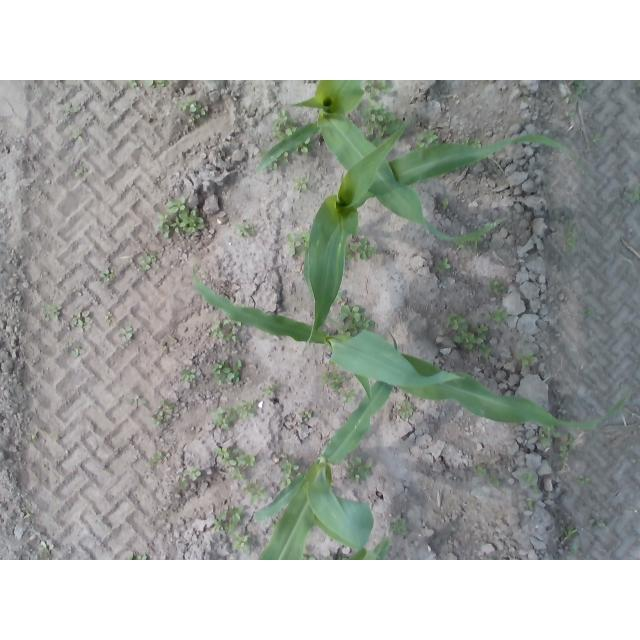Maize: (192, 268, 633, 434), (303, 126, 574, 352), (261, 81, 506, 243), (254, 329, 399, 560), (333, 537, 393, 560)
Weeds: (217, 448, 254, 477), (455, 323, 488, 353), (209, 405, 240, 432), (211, 320, 242, 345), (214, 363, 244, 386), (216, 505, 241, 532), (179, 209, 203, 232), (154, 212, 176, 237), (369, 80, 395, 101), (274, 453, 303, 471), (182, 102, 206, 123), (352, 456, 372, 480), (346, 312, 370, 332), (430, 254, 452, 274), (260, 380, 280, 401), (325, 370, 345, 391), (396, 397, 414, 419), (274, 110, 288, 138), (233, 535, 252, 555), (357, 239, 376, 259), (69, 311, 91, 328), (286, 233, 302, 256), (241, 398, 259, 418), (447, 313, 466, 331), (620, 186, 640, 203), (368, 107, 392, 121), (248, 484, 267, 501), (339, 304, 359, 320), (418, 130, 438, 146), (563, 525, 578, 545), (560, 433, 575, 453), (487, 307, 507, 322), (165, 197, 185, 212), (186, 366, 203, 382), (143, 252, 158, 269), (45, 305, 63, 319), (339, 390, 358, 403), (236, 223, 252, 238), (491, 280, 506, 295), (130, 396, 147, 408), (187, 468, 201, 482), (521, 356, 537, 368), (66, 103, 78, 118), (151, 412, 166, 424), (163, 401, 178, 413), (121, 328, 136, 340), (589, 519, 606, 529), (149, 453, 163, 465), (296, 180, 309, 192), (25, 431, 39, 442), (573, 83, 587, 94), (439, 194, 450, 208), (73, 349, 88, 359), (38, 543, 54, 552), (145, 81, 165, 88), (126, 80, 140, 90), (301, 411, 313, 422), (101, 269, 114, 279), (21, 508, 32, 519), (472, 139, 483, 149), (106, 311, 113, 326), (178, 476, 186, 489), (579, 473, 589, 483), (525, 474, 535, 484), (477, 465, 486, 476)
